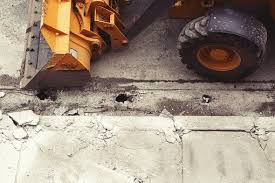bulldozer: (17, 1, 273, 95)
